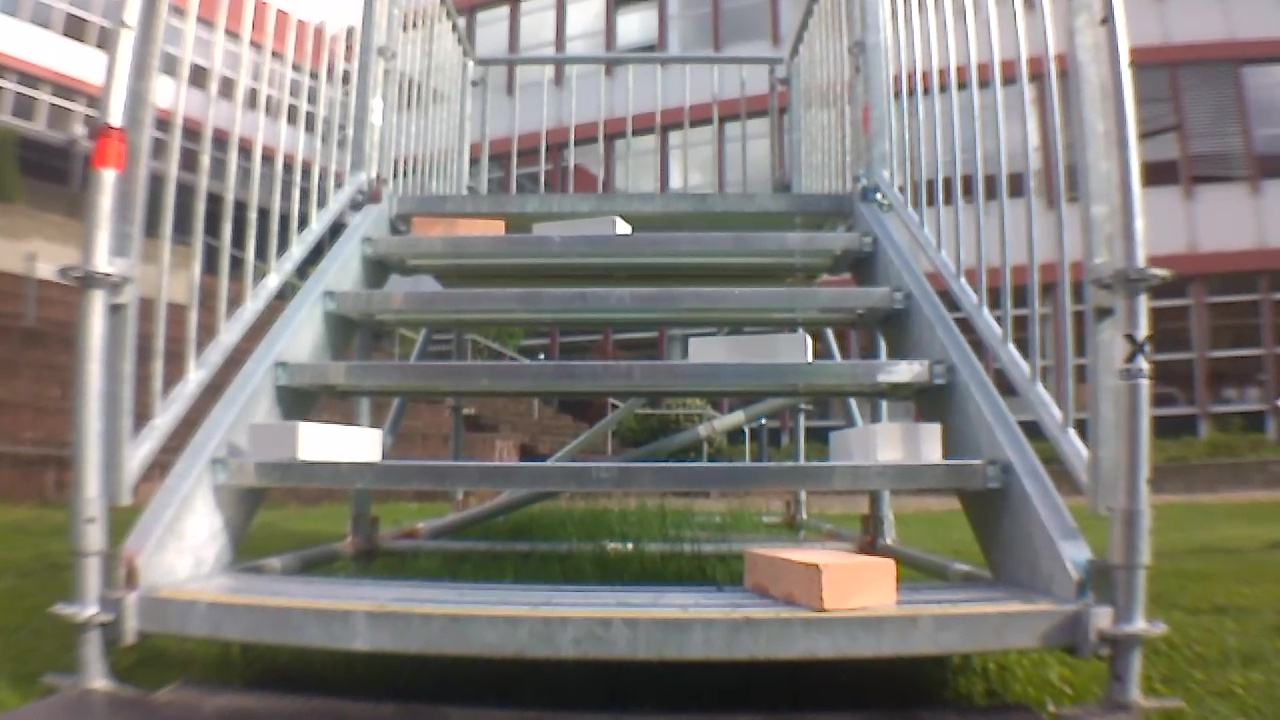brick: (743, 548, 897, 611), (248, 420, 381, 461), (829, 424, 941, 463), (689, 331, 812, 362), (411, 216, 503, 235), (532, 217, 631, 234)
edge: (141, 593, 1072, 660), (213, 460, 1004, 492), (273, 358, 952, 386), (322, 287, 907, 308), (394, 192, 854, 212), (365, 234, 875, 252)
stairs: (44, 3, 1159, 697)
steps: (118, 187, 1084, 672)
